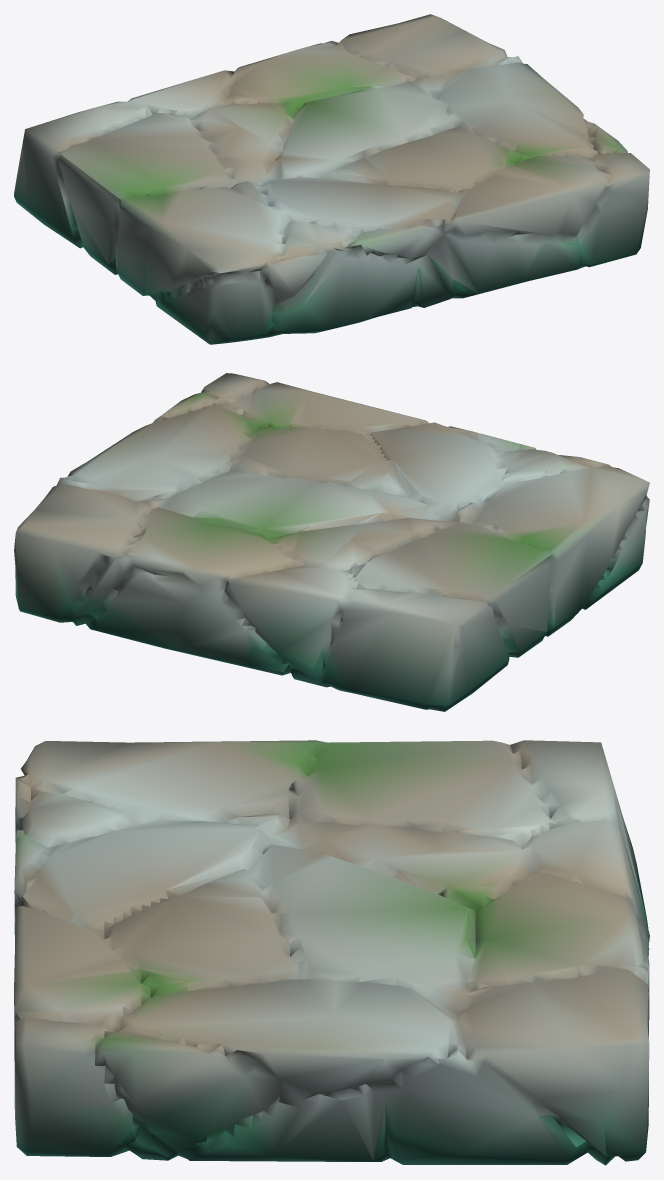
Rendered from grotto_flagstone_lod1.glb.
3 views of the same model, one above another, from view 1: azimuth 30°, elevation 25°; view 2: azimuth 150°, elevation 25°; view 3: azimuth 270°, elevation 25° (orthographic). The views are drawn at different scales.
Visible parts, largest first — view 1: grotto_flagstone.001; view 2: grotto_flagstone.001; view 3: grotto_flagstone.001.
Part boxes in pixels (x1=…): grotto_flagstone.001: x1=14, y1=14, x2=649, y2=344; grotto_flagstone.001: x1=14, y1=373, x2=649, y2=711; grotto_flagstone.001: x1=14, y1=740, x2=649, y2=1165.
Bounding box in the file's own units: 17.85 × 3.29 × 15.07.
